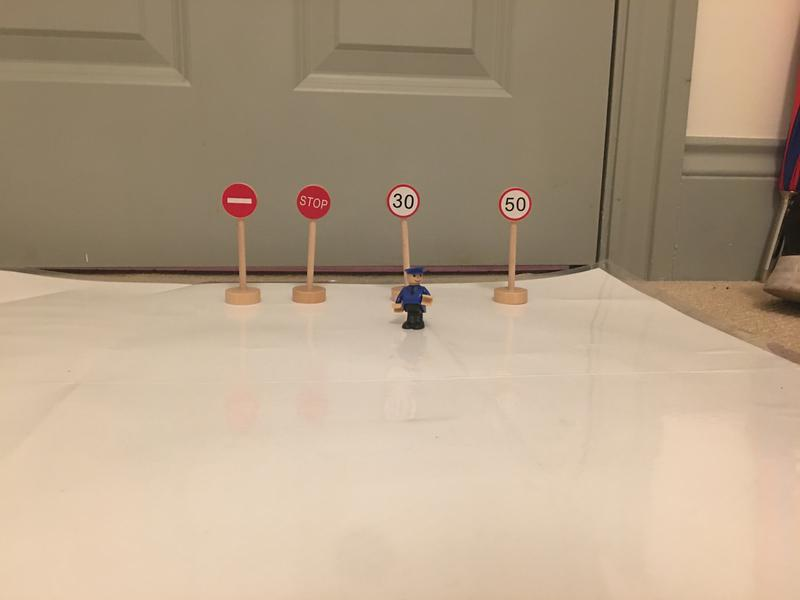Traffic_Sign_30: (388, 185, 419, 217)
Traffic_Sign_50: (500, 187, 532, 220)
Traffic_Sign_No_Entry: (223, 185, 257, 218)
Traffic_Sign_Stop: (297, 186, 330, 218)
person: (391, 267, 435, 332)
